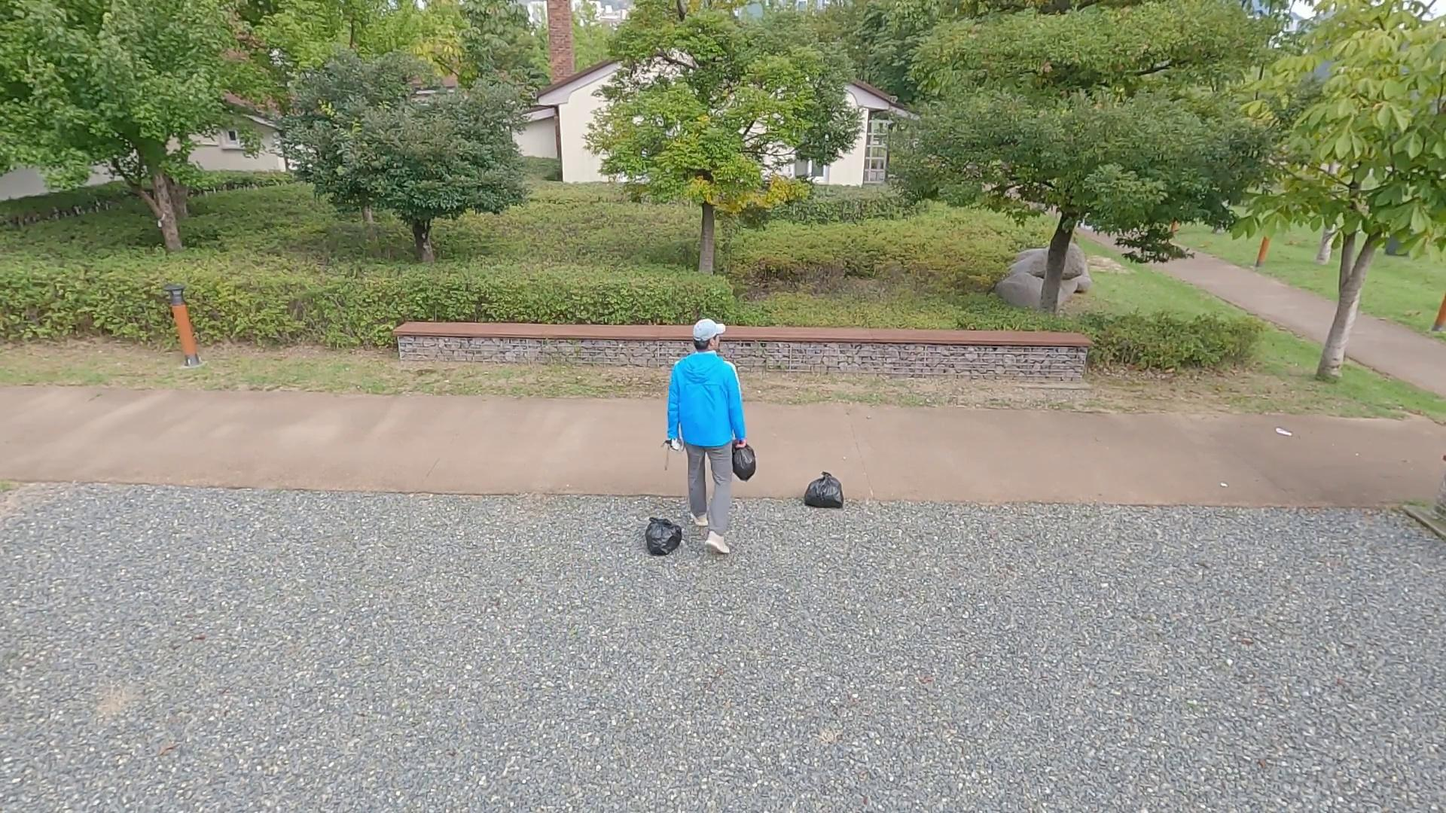person: (662, 305, 751, 558)
trash: (799, 467, 852, 510), (640, 510, 684, 557), (721, 436, 765, 482)
